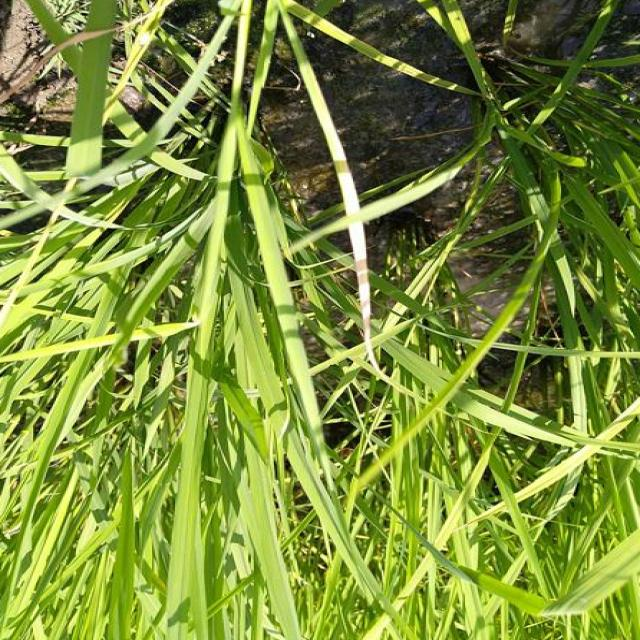Leaf Blight: (281, 11, 362, 215), (347, 220, 389, 382)
